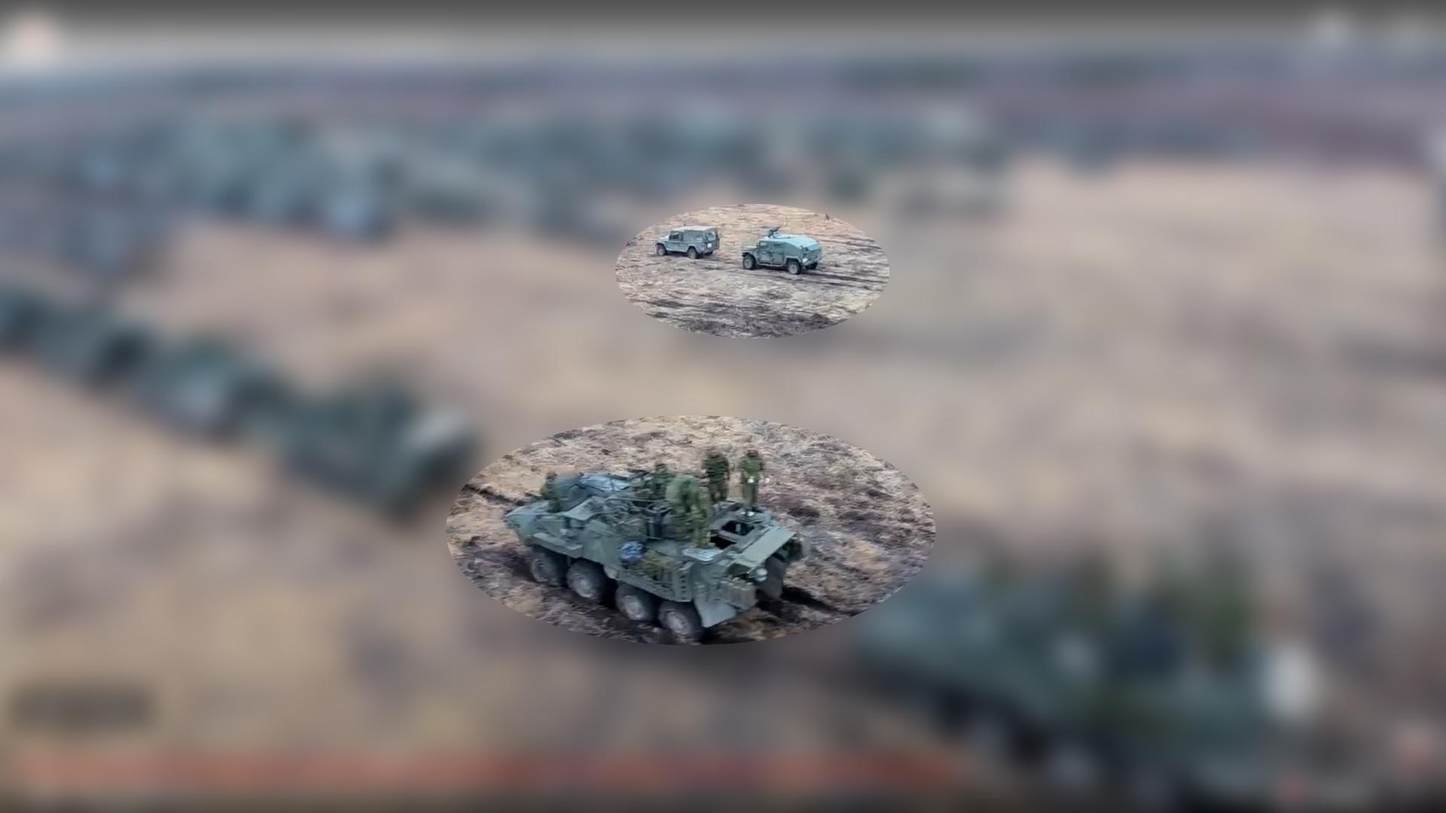armored_car: (501, 467, 800, 650), (741, 227, 824, 276), (655, 228, 719, 259)
